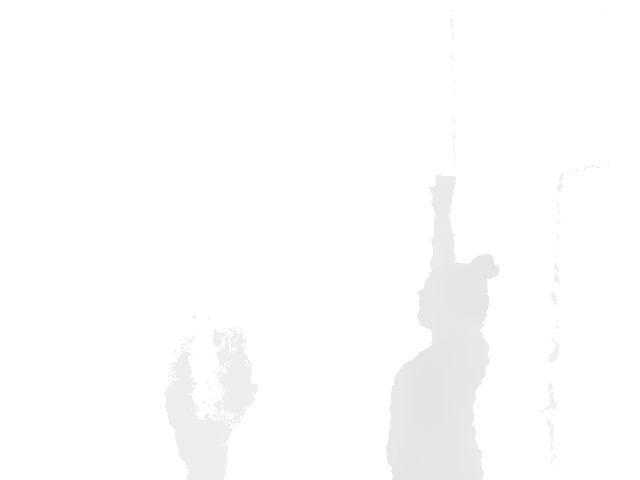hand: (429, 174, 456, 217)
head: (416, 260, 489, 336)
person: (384, 174, 500, 480)
